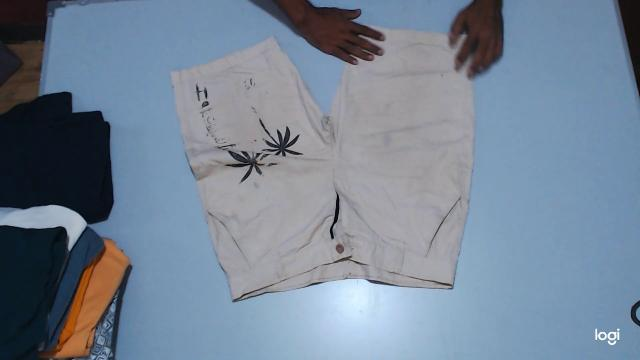new-garment: (171, 28, 474, 300)
